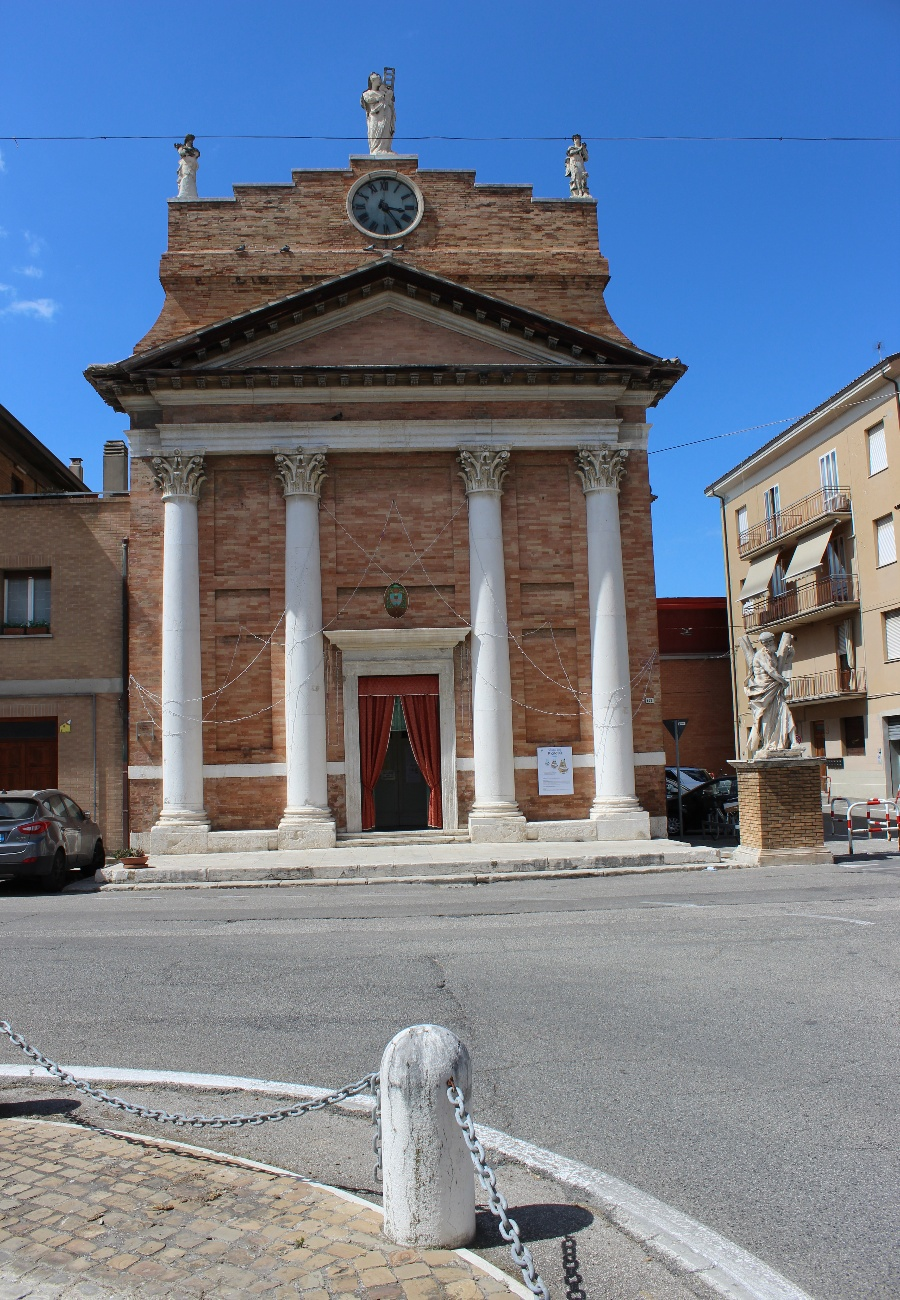Parrocchia Santa Maria: (81, 70, 690, 866)
